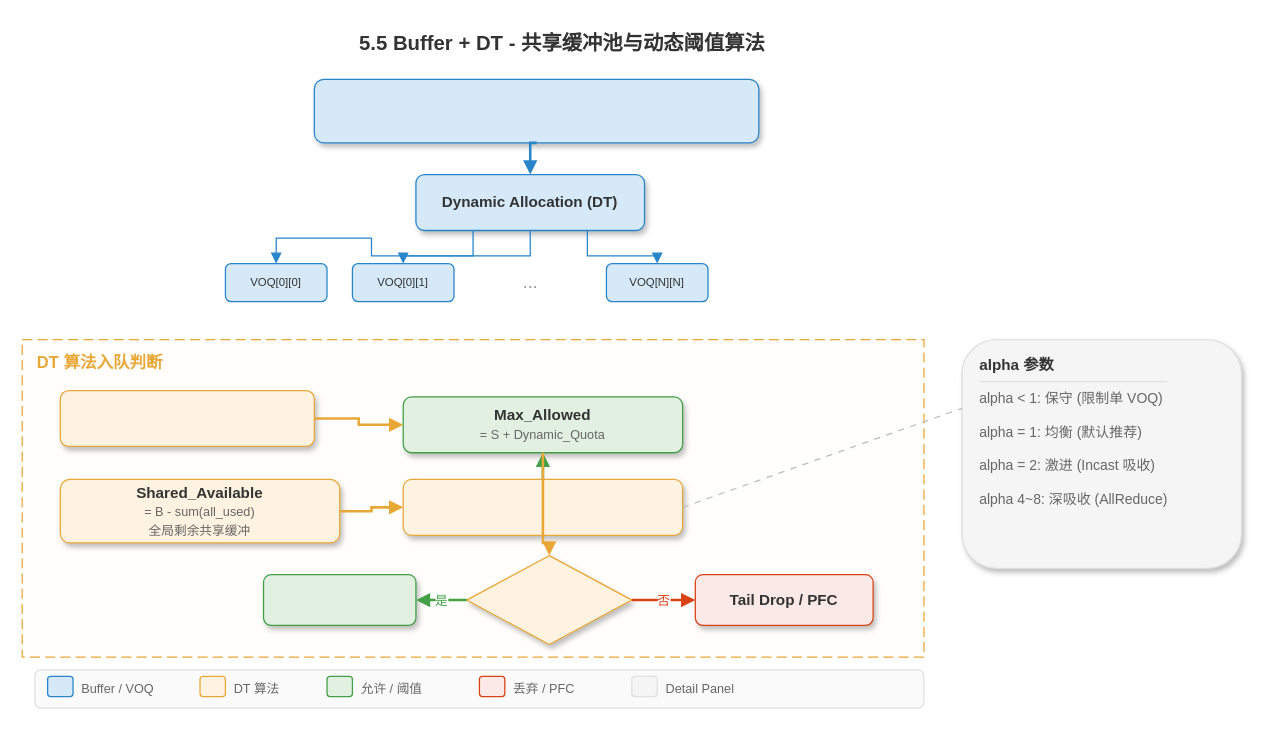
This 1271x730 diagram has some shape labels left out. The centre of each missing label's shape, as x and y in pixels:
"Dynamic_Quota = alpha x Shared_Available" belongs at point (543, 508).
"Shared Memory Pool Total: B bytes, 典型 16~64 MB" belongs at point (537, 112).
"Static_Reserved = S 保底缓冲, 如 128 KB/VOQ" belongs at point (188, 419).
"VOQ.used < Max_Allowed?" belongs at point (549, 601).
"允许入队" belongs at point (340, 601).
